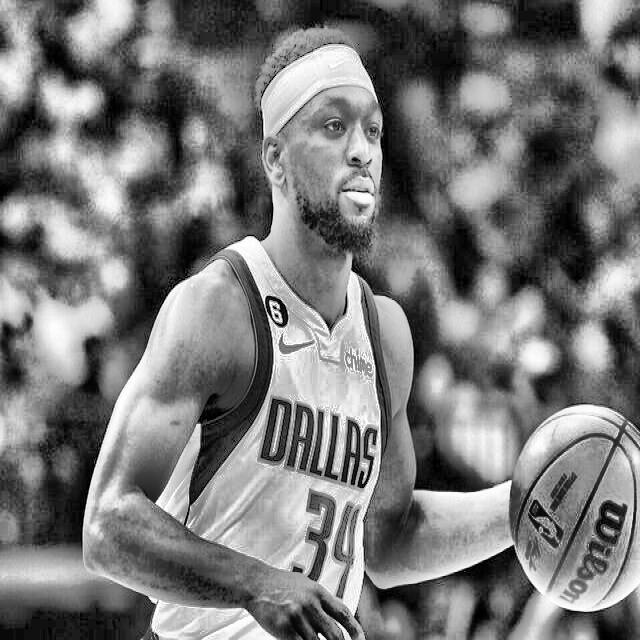Basketball: (511, 407, 640, 611)
